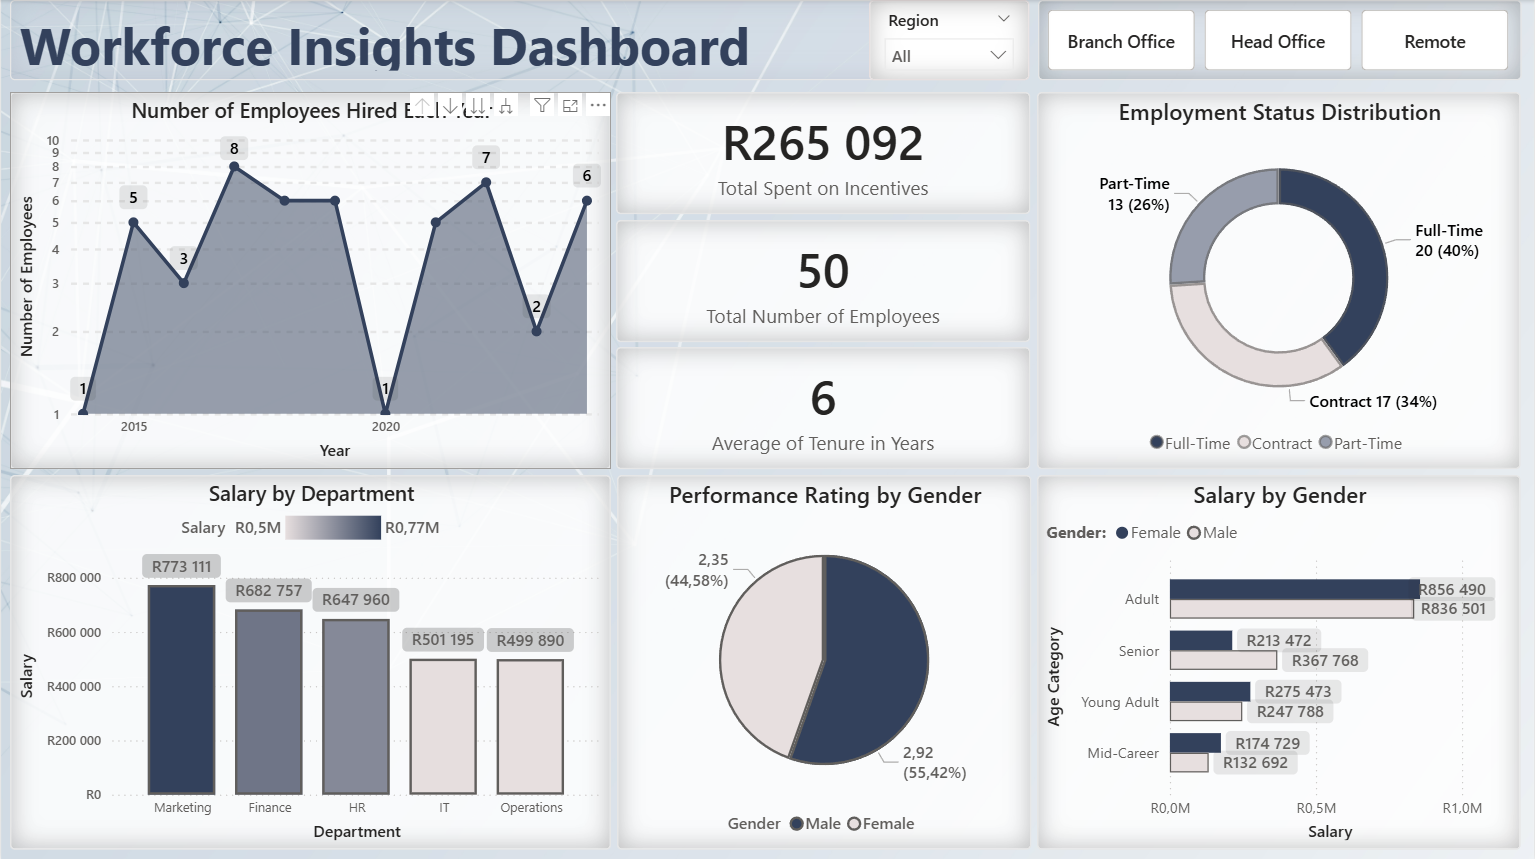

What the dashboard file says about the page in this screenshot:
{"tool":"powerbi","page":{"name":"Dashboard Overview","canvas":[1280,720],"ordinal":0},"visuals":[{"type":"lineChart","title":"Number of Employees Hired Each Year","fields":{"Category":["Calendar.Year","Calendar.Quarter","Calendar.Month"],"Y":["CountNonNull(Employee Data for HR Report.Employee ID)"]},"box":[7.4,77.2,501.9,314.8],"z":0},{"type":"card","fields":{"Values":["Employee Data for HR Report.Total Employees"]},"box":[513.8,183.4,346,102.5],"z":1000},{"type":"advancedSlicerVisual","fields":{"Values":["Employee Data for HR Report.Work Location"]},"box":[866.2,0,403.9,67.1],"z":2000},{"type":"donutChart","title":"Employment Status Distribution","fields":{"Category":["Employee Data for HR Report.Employment Status"],"Y":["Employee Data for HR Report.Total Employees"]},"box":[865.7,77.2,403.9,314.8],"z":3000},{"type":"clusteredColumnChart","title":"Salary by Department","fields":{"Category":["Employee Data for HR Report.Department"],"Y":["Sum(Employee Data for HR Report.Salary)"]},"box":[7.4,396.5,501.9,313.3],"z":4000},{"type":"clusteredBarChart","title":"Salary by Gender","fields":{"Category":["Employee Data for HR Report.AgeCategory"],"Y":["Sum(Employee Data for HR Report.Salary)"],"Series":["Employee Data for HR Report.Gender"]},"box":[865.7,396.5,403.9,313.3],"z":5000},{"type":"card","fields":{"Values":["Sum(Employee Data for HR Report.Bonus/Allowances)"]},"box":[513.8,77.2,346,102.5],"z":6000},{"type":"card","fields":{"Values":["Median(Employee Data for HR Report.Tenure (YEARS))"]},"box":[513.8,289.6,346,102.5],"z":7000},{"type":"pieChart","title":"Performance Rating by Gender","fields":{"Category":["Employee Data for HR Report.Gender"],"Y":["Avg(Employee Data for HR Report.Performance Rating)"]},"box":[514.5,396.5,346,313.3],"z":8000},{"type":"textbox","box":[7.5,0,851.3,67.1],"z":9000},{"type":"slicer","fields":{"Values":["Employee Data for HR Report.Region"]},"box":[725,0,133.6,66.8],"z":10000}]}

Visuals, with their boxes in screenshot pixels (x1, y1, x2, y2), scaled from the page's 1280x720 canvas onto the 1535x859 screenshot:
"Number of Employees Hired Each Year" lineChart: left=9, top=92, right=611, bottom=468
card - Employee Data for HR Report.Total Employees: left=616, top=219, right=1031, bottom=341
advancedSlicerVisual - Employee Data for HR Report.Work Location: left=1039, top=0, right=1523, bottom=80
"Employment Status Distribution" donutChart: left=1038, top=92, right=1523, bottom=468
"Salary by Department" clusteredColumnChart: left=9, top=473, right=611, bottom=847
"Salary by Gender" clusteredBarChart: left=1038, top=473, right=1523, bottom=847
card - Sum(Employee Data for HR Report.Bonus/Allowances): left=616, top=92, right=1031, bottom=214
card - Median(Employee Data for HR Report.Tenure (YEARS)): left=616, top=346, right=1031, bottom=468
"Performance Rating by Gender" pieChart: left=617, top=473, right=1032, bottom=847
textbox: left=9, top=0, right=1030, bottom=80
slicer - Employee Data for HR Report.Region: left=869, top=0, right=1030, bottom=80
